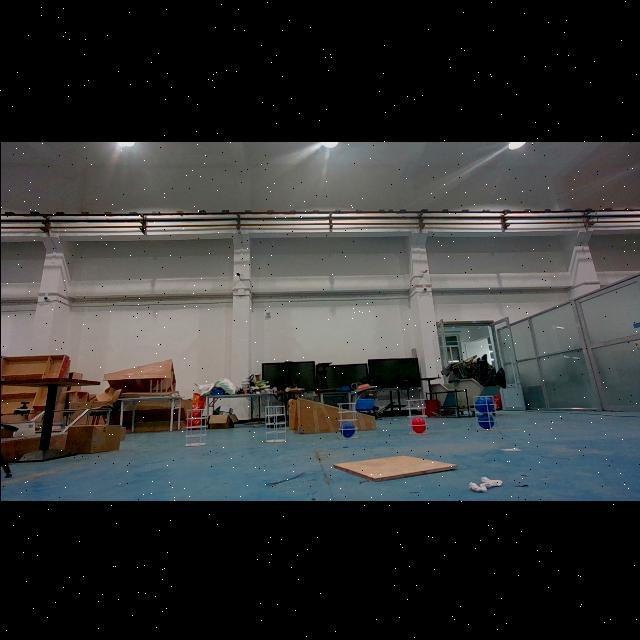B: (474, 396, 496, 412), (476, 413, 494, 427), (339, 421, 355, 435)
R: (410, 417, 424, 431)
S: (470, 392, 498, 432), (404, 394, 430, 436), (334, 399, 360, 441), (183, 407, 209, 448), (262, 402, 288, 442)
